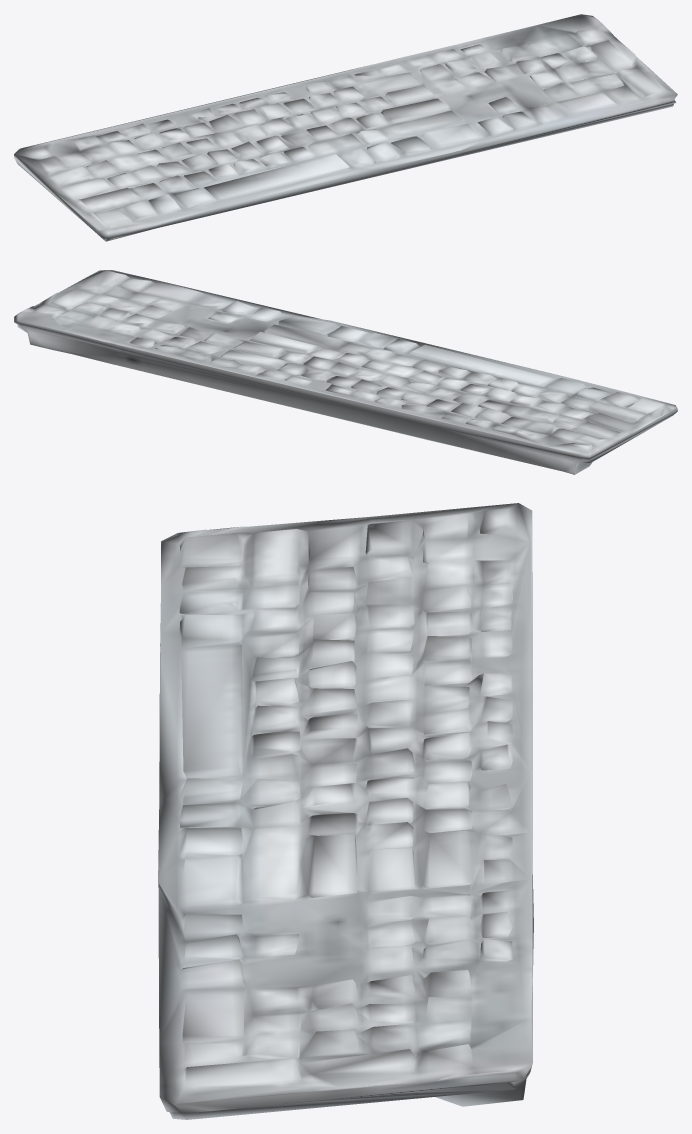
Rendered from Kanex_MultiSync_Wireless_Keyboard-medium.glb.
3 renders of one model, top to bottom at view 1: azimuth 30°, elevation 25°; view 2: azimuth 150°, elevation 25°; view 3: azimuth 270°, elevation 25°, orthographic. The views are drawn at different scales.
Parts seen in each view (by area): view 1: Kanex_MultiSync_Wireless_Keyboard; view 2: Kanex_MultiSync_Wireless_Keyboard; view 3: Kanex_MultiSync_Wireless_Keyboard.
Boxes of the visible parts, left/top/right/bottom form: Kanex_MultiSync_Wireless_Keyboard: left=14, top=14, right=677, bottom=241; Kanex_MultiSync_Wireless_Keyboard: left=14, top=270, right=677, bottom=474; Kanex_MultiSync_Wireless_Keyboard: left=158, top=503, right=533, bottom=1119.
Bounding box in the file's own units: 0.4414 × 0.0232 × 0.1242.
1 material, 1 textured.
